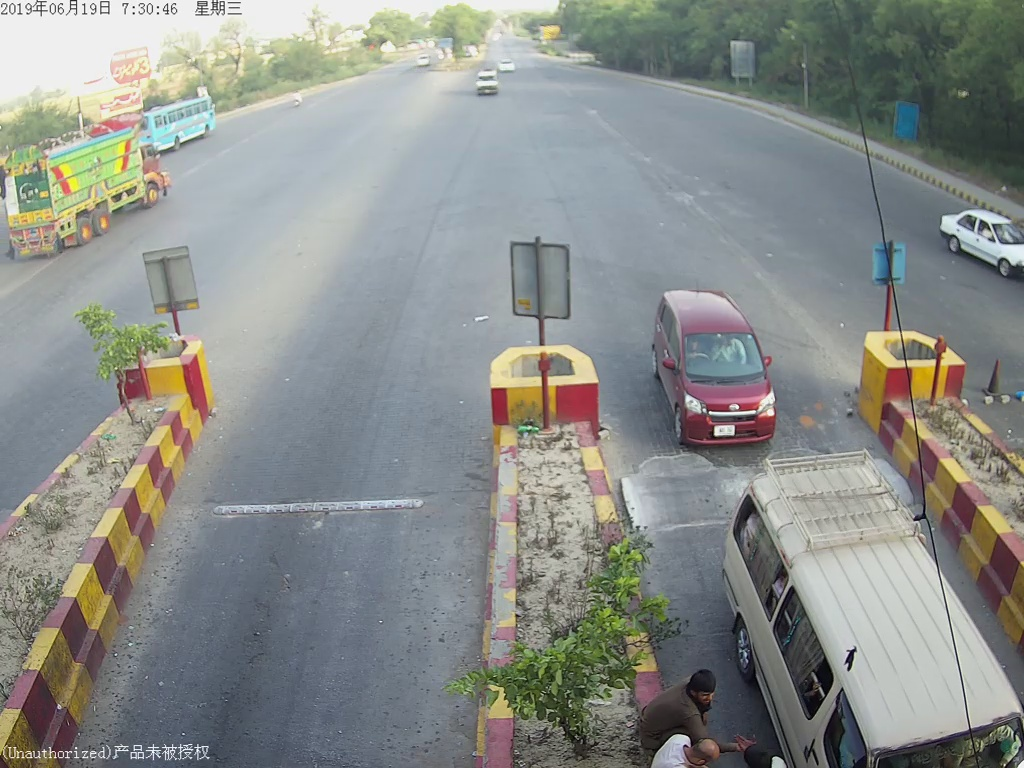Cat-1: (646, 288, 787, 446)
